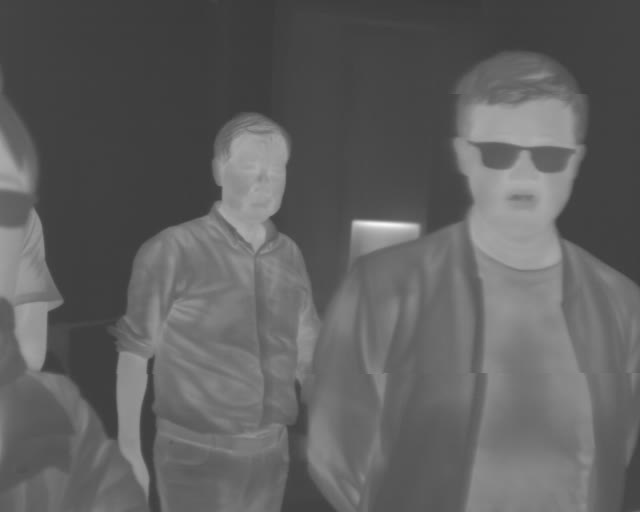face: (451, 48, 589, 239), (211, 110, 292, 221)
